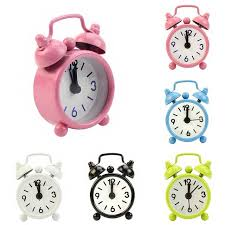alarm_clock: (26, 13, 115, 134)
